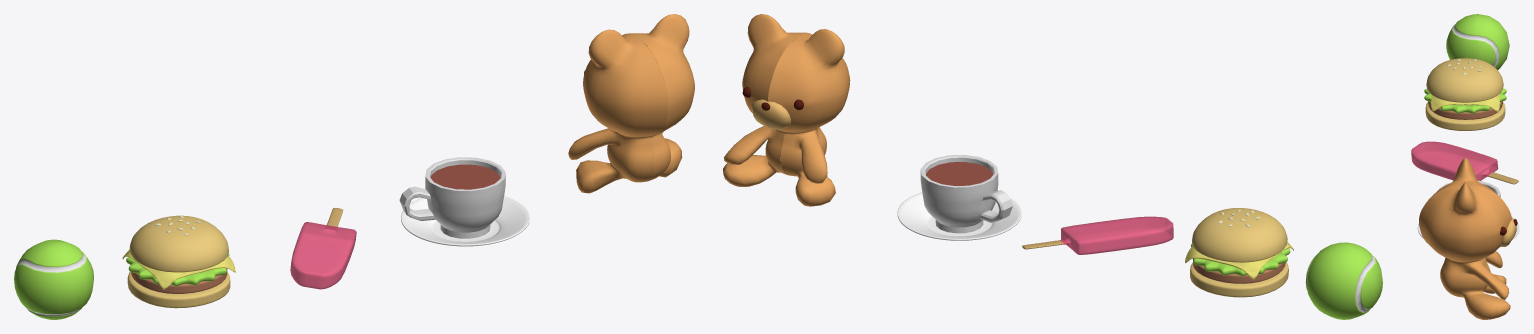
3 views of the same model, side by side, from view 1: azimuth 30°, elevation 25°; view 2: azimuth 150°, elevation 25°; view 3: azimuth 270°, elevation 25° (orthographic). The views are drawn at different scales.
Visible parts, largest first — view 1: 球体.002, 球体.001, 柱体.002, 立方体.002, 平面.001, 柱体.001, 立方体, 柱体.004, 柱体, 立方体.001, 平面; view 2: 球体.002, 球体.001, 柱体.002, 立方体.002, 平面.001, 柱体.001, 立方体, 柱体.004, 球体.003, 柱体, 立方体.001, 平面; view 3: 球体.002, 立方体.002, 球体.001, 平面.001, 立方体, 柱体, 立方体.001, 平面, 球体.003, 柱体.002, 平面.010, 柱体.001.
Part boxes in pixels (box(x1,y1,x2,y2)): 球体.002: box(568, 14, 694, 193); 球体.001: box(14, 239, 93, 319); 柱体.002: box(399, 157, 505, 238); 立方体.002: box(129, 215, 228, 272); 平面.001: box(290, 208, 356, 289); 柱体.001: box(401, 196, 529, 246); 立方体: box(127, 271, 230, 308); 柱体.004: box(430, 164, 500, 189); 柱体: box(126, 253, 229, 286); 立方体.001: box(131, 268, 227, 293); 平面: box(122, 249, 235, 289); 球体.002: box(723, 14, 850, 206); 球体.001: box(1305, 242, 1382, 319); 柱体.002: box(920, 154, 1012, 233); 立方体.002: box(1192, 208, 1287, 262); 平面.001: box(1022, 216, 1173, 254); 柱体.001: box(897, 192, 1021, 240); 立方体: box(1190, 262, 1288, 297); 柱体.004: box(926, 162, 992, 185); 球体.003: box(751, 99, 790, 129); 柱体: box(1191, 244, 1290, 276); 立方体.001: box(1193, 258, 1285, 283); 平面: box(1185, 241, 1293, 279); 球体.002: box(1419, 158, 1511, 319); 立方体.002: box(1426, 58, 1503, 102); 球体.001: box(1446, 14, 1509, 69); 平面.001: box(1411, 141, 1518, 184); 立方体: box(1425, 102, 1505, 130); 柱体: box(1424, 88, 1506, 113); 立方体.001: box(1428, 101, 1502, 119); 平面: box(1431, 93, 1499, 111); 球体.003: box(1500, 217, 1516, 246); 柱体.002: box(1438, 180, 1500, 197); 平面.010: box(1447, 59, 1482, 74); 柱体.001: box(1417, 216, 1519, 239).
Size of the model in its own units: 1369 by 332 by 244.
